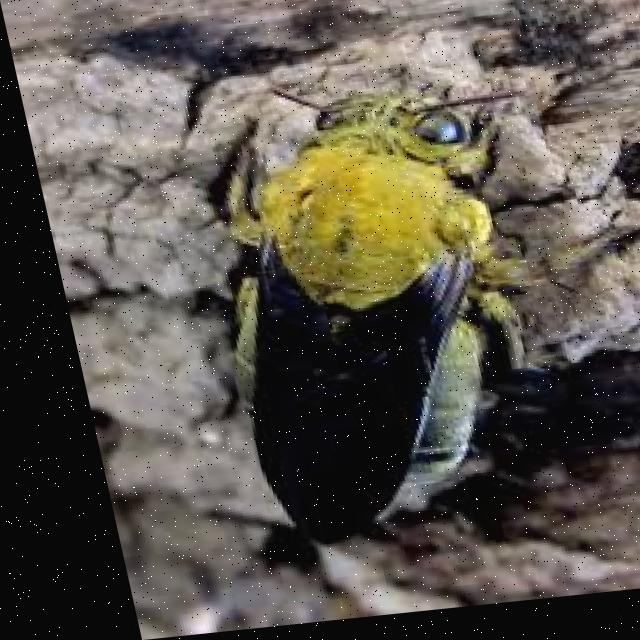Xylocopa: (135, 72, 567, 560)
